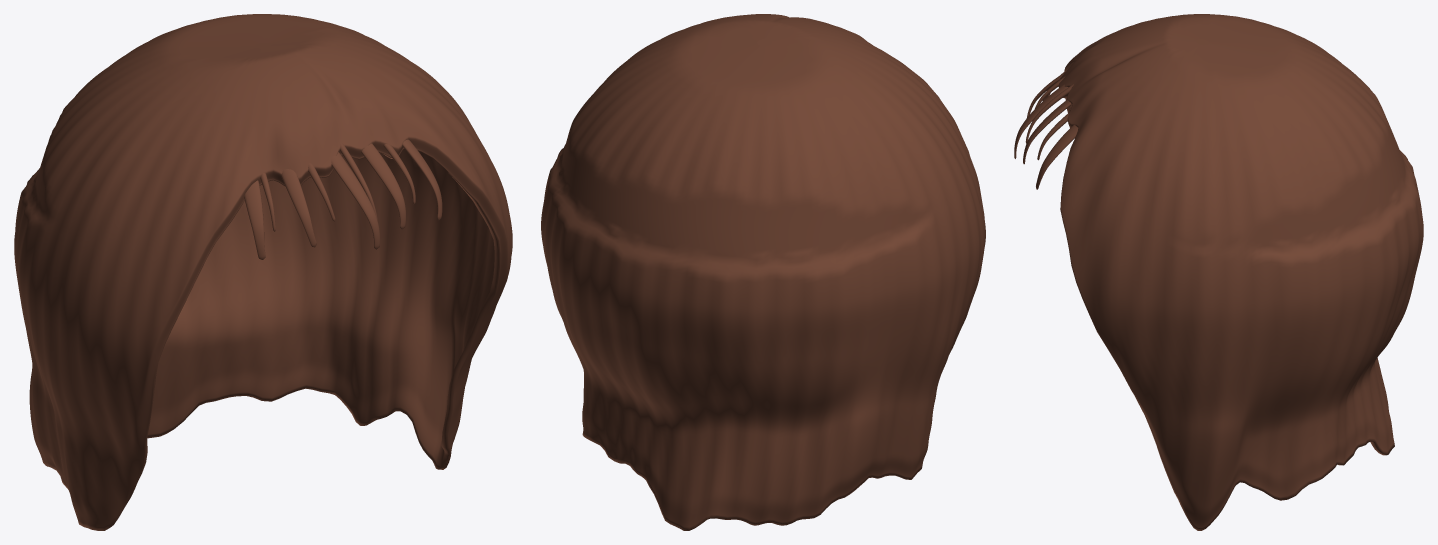
The model's file is side-sweep-bucket.glb.
3 renders of one model, left to right at view 1: azimuth 30°, elevation 25°; view 2: azimuth 150°, elevation 25°; view 3: azimuth 270°, elevation 25°, orthographic. The views are drawn at different scales.
Parts seen in each view (by area): view 1: Hair / layered lob, Fringe / arched wisp 05, Fringe / arched wisp 07, Fringe / arched wisp 01, Fringe / arched wisp 03, Fringe / arched wisp 09; view 2: Hair / layered lob; view 3: Hair / layered lob, Fringe / arched wisp 09.
Boxes of the visible parts, bbox=[...] form: Hair / layered lob: bbox=[14, 14, 512, 530]; Fringe / arched wisp 05: bbox=[331, 152, 379, 249]; Fringe / arched wisp 07: bbox=[361, 143, 405, 229]; Fringe / arched wisp 01: bbox=[244, 180, 265, 259]; Fringe / arched wisp 03: bbox=[281, 169, 316, 247]; Fringe / arched wisp 09: bbox=[402, 139, 442, 220]; Hair / layered lob: bbox=[541, 14, 985, 530]; Hair / layered lob: bbox=[1058, 14, 1423, 530]; Fringe / arched wisp 09: bbox=[1036, 125, 1078, 189].
Size of the model in its own units: 0.8388 by 0.8731 by 0.7759.
